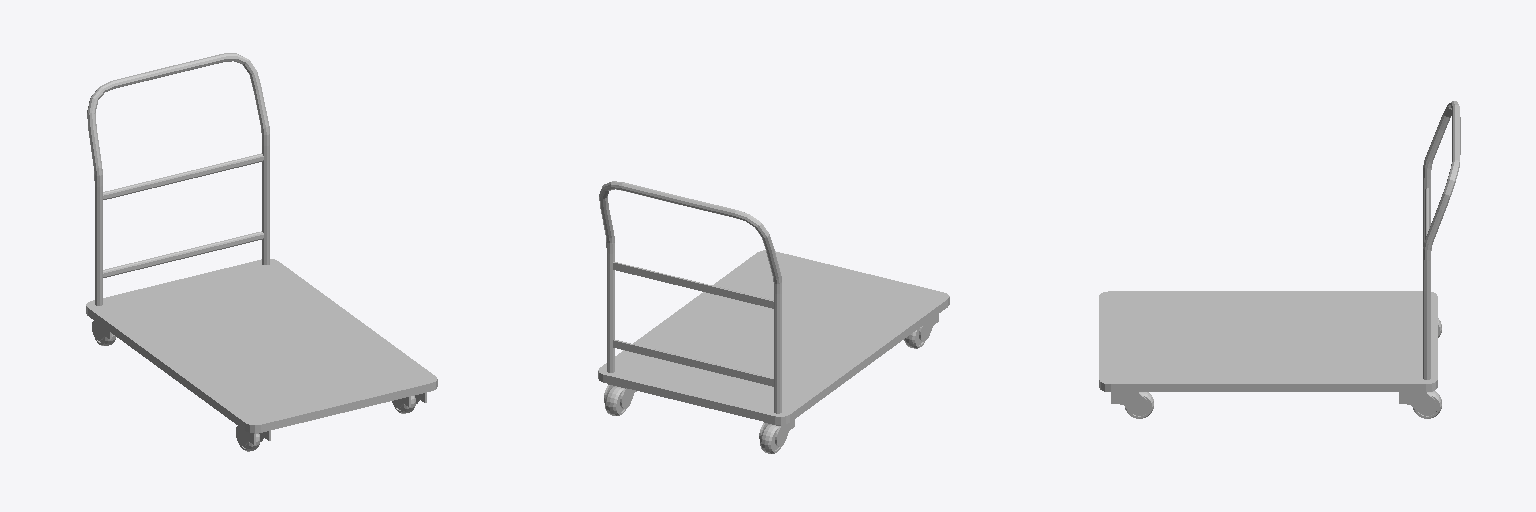
Rendered from caddie.obj.
3 views of the same model, side by side, from view 1: azimuth 30°, elevation 25°; view 2: azimuth 150°, elevation 25°; view 3: azimuth 270°, elevation 25° (orthographic).
Visible parts, largest first — view 1: Platform_Truck_lambert1_0; view 2: Platform_Truck_lambert1_0; view 3: Platform_Truck_lambert1_0.
Boxes of the visible parts, x1=… form: Platform_Truck_lambert1_0: x1=86, y1=53, x2=437, y2=451; Platform_Truck_lambert1_0: x1=598, y1=181, x2=949, y2=453; Platform_Truck_lambert1_0: x1=1099, y1=101, x2=1460, y2=418.
Bounding box in the file's own units: 81.23 × 101 × 133.